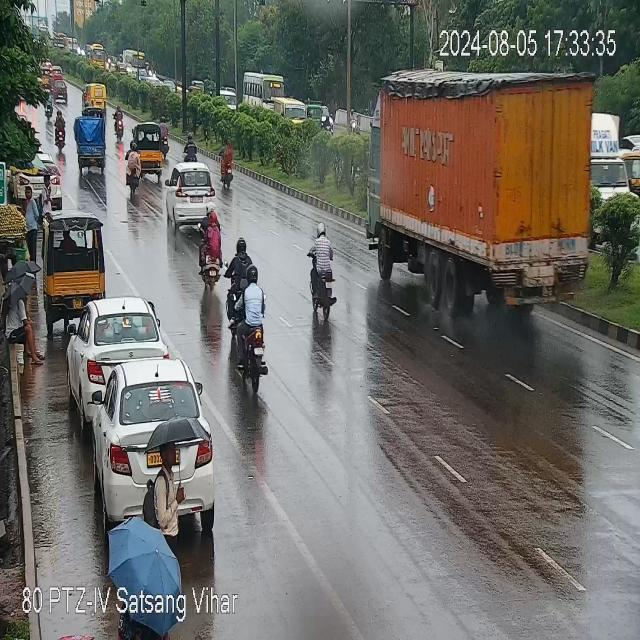2-wheelers: (219, 237, 270, 400), (304, 220, 347, 324), (200, 202, 221, 290), (126, 140, 141, 198), (220, 134, 233, 190), (54, 107, 68, 154), (184, 133, 199, 160), (114, 105, 125, 139), (44, 91, 52, 122)
auto: (44, 210, 106, 313), (75, 108, 109, 171), (131, 121, 168, 172), (273, 97, 306, 131), (622, 151, 640, 201), (83, 82, 109, 114), (308, 103, 328, 132)
bus: (243, 72, 286, 108), (88, 40, 110, 69), (122, 46, 144, 69)
car: (90, 362, 207, 492), (72, 296, 163, 397), (166, 165, 222, 228)
pedestrian: (4, 284, 47, 370), (153, 432, 183, 548), (13, 178, 48, 260), (39, 173, 53, 252)
truck: (365, 60, 608, 307)
